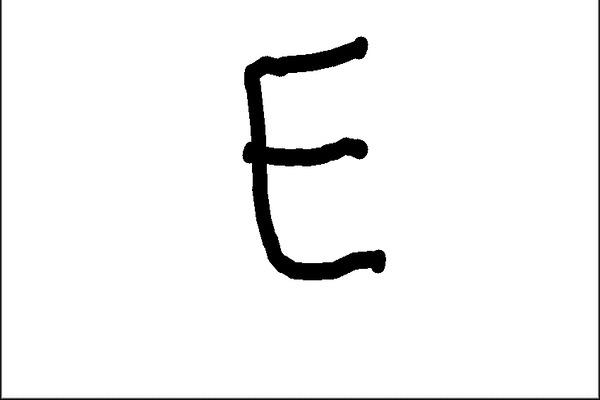E: (232, 31, 399, 285)
